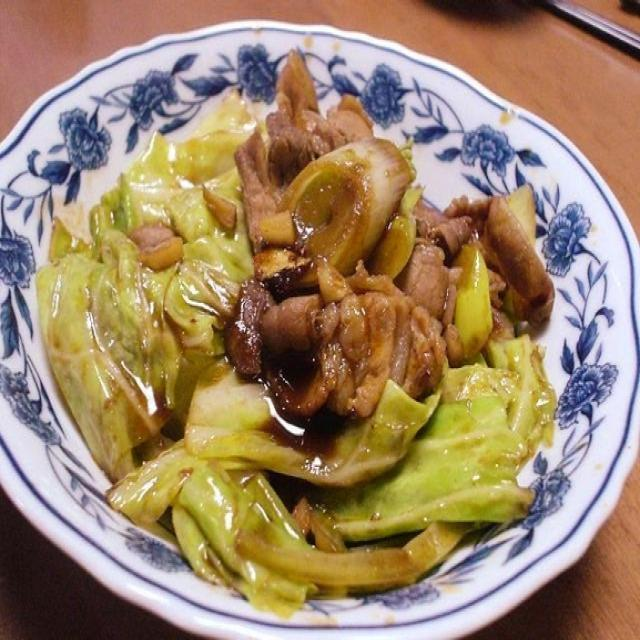猪肉菜式: (13, 40, 601, 615)
